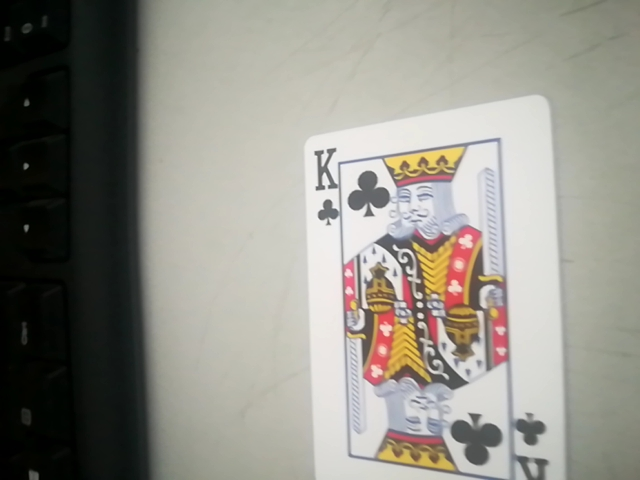mh k: (302, 97, 568, 478)
